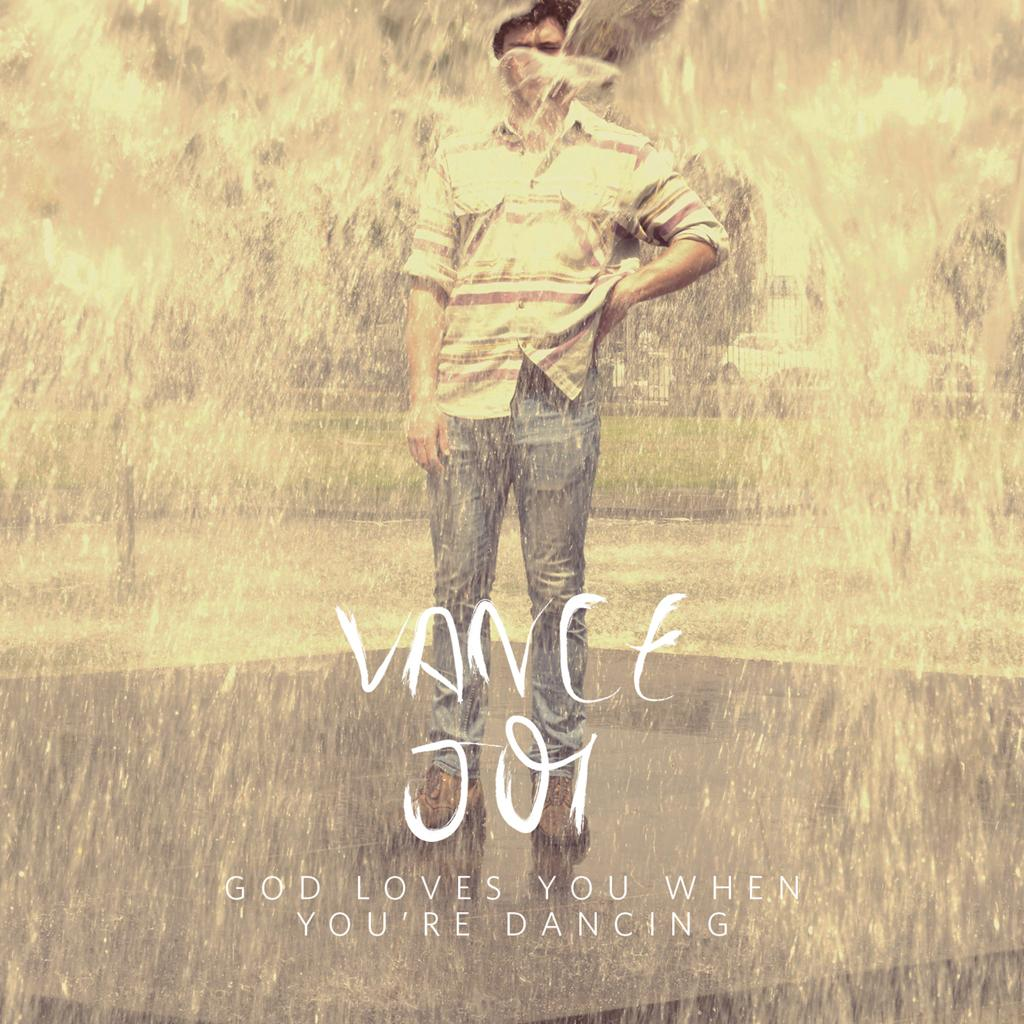face: (500, 14, 564, 104)
